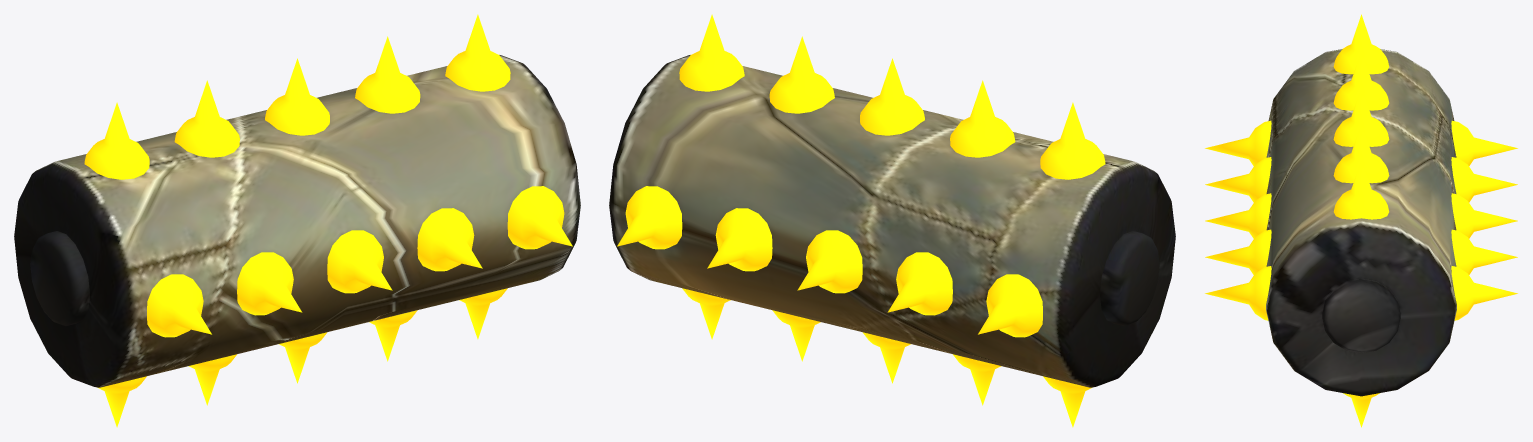
Rendered from floor.03.machine3.gltf.
The picture shows the model from 3 angles, left to right: view 1: azimuth 30°, elevation 25°; view 2: azimuth 150°, elevation 25°; view 3: azimuth 270°, elevation 25°; orthographic projection. The views are drawn at different scales.
Parts seen in each view (by area): view 1: floor.03.machine.05; view 2: floor.03.machine.05; view 3: floor.03.machine.05.
Boxes of the visible parts, x1,y1,x2,y2 form: floor.03.machine.05: (14, 14, 580, 427); floor.03.machine.05: (609, 14, 1175, 427); floor.03.machine.05: (1205, 14, 1517, 427).
Size of what is drawn, in the model's own units: 5.42 by 3.42 by 3.63.
Materials: 2 (1 with a texture image).
